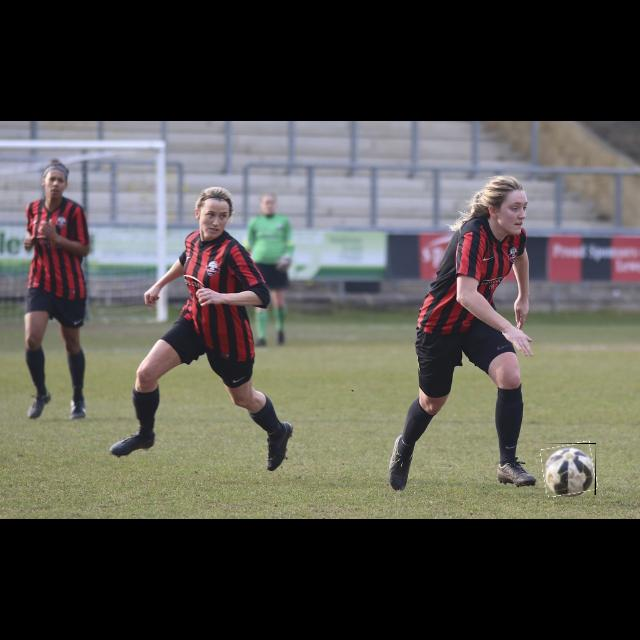Football: (542, 443, 596, 495)
